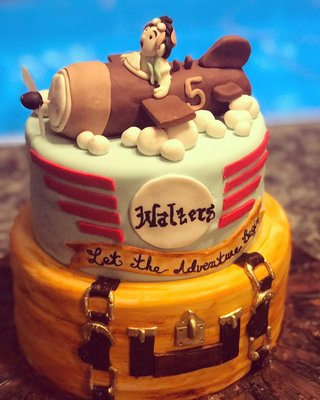sushi: (7, 17, 294, 397)
